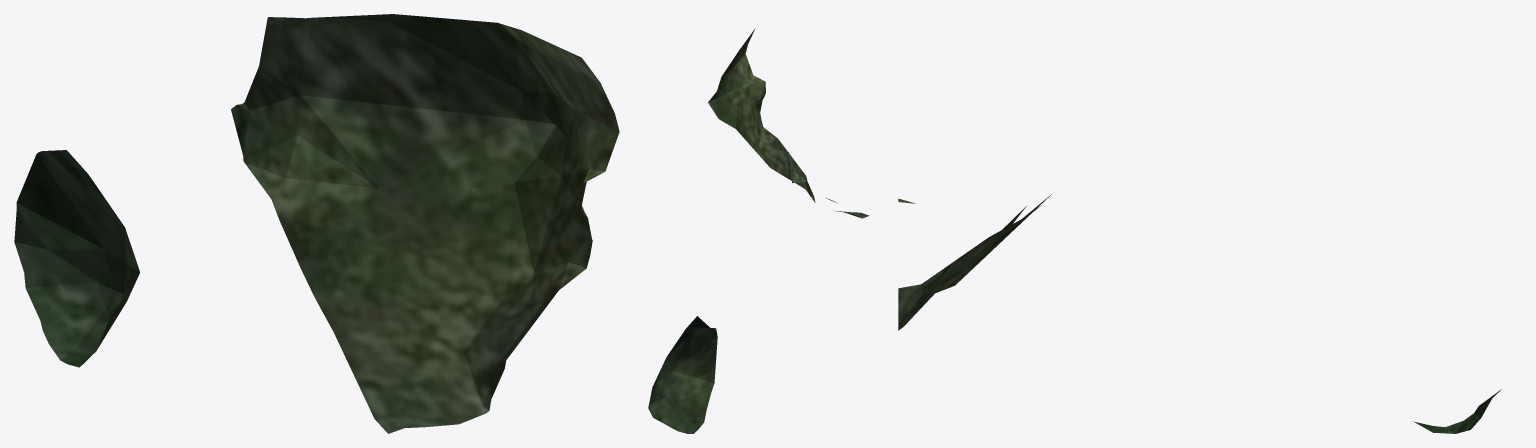
3 views of the same model, side by side, from view 1: azimuth 30°, elevation 25°; view 2: azimuth 150°, elevation 25°; view 3: azimuth 270°, elevation 25° (orthographic). The views are drawn at different scales.
Size of the model in its own units: 1.85 by 3.74 by 5.11.
Materials: 1 (1 with a texture image).
